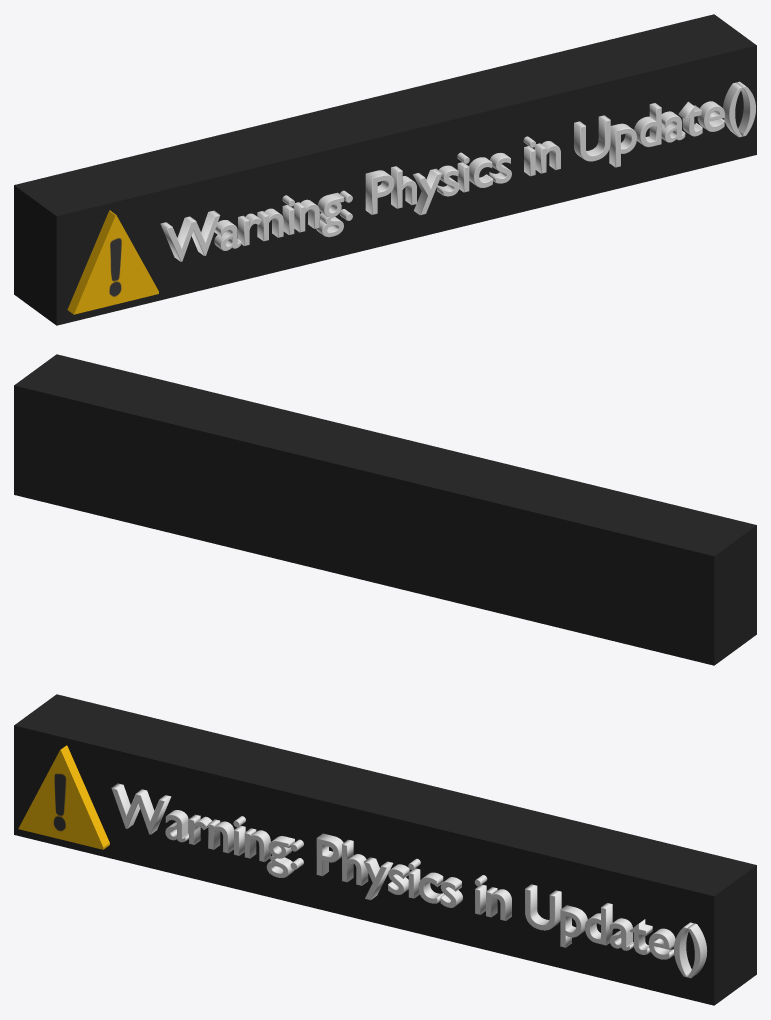
Rendered from Warning_ Physics in Update().fbx.
The picture shows the model from 3 angles, top to bottom: view 1: azimuth 30°, elevation 25°; view 2: azimuth 150°, elevation 25°; view 3: azimuth 330°, elevation 25°; orthographic projection.
Visible parts, largest first — view 1: no1, Warning: Physics in Update(); view 2: no1; view 3: no1, Warning: Physics in Update().
Boxes of the visible parts, x1,y1,x2,y2 form: no1: [14, 14, 756, 325]; Warning: Physics in Update(): [160, 81, 755, 261]; no1: [14, 354, 756, 665]; no1: [14, 694, 756, 1005]; Warning: Physics in Update(): [111, 783, 707, 978].
Size of the model in its own units: 2646 by 395 by 322.
